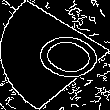O_SE: (8, 22, 102, 88)
